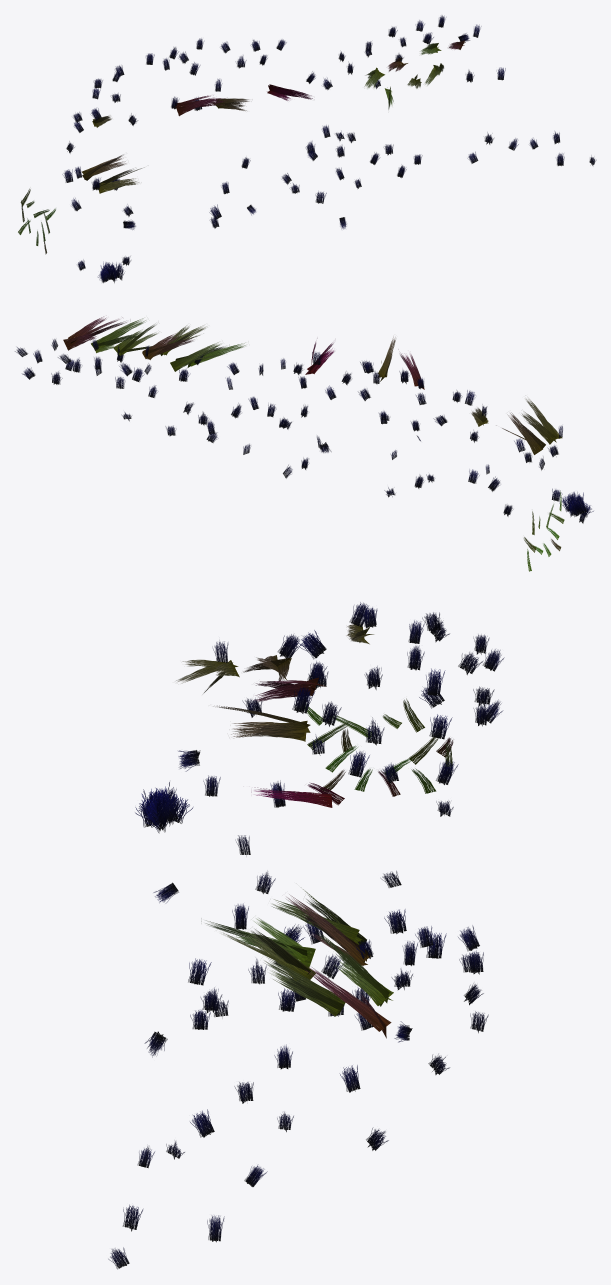
File: algae_tufts.glb
3 views of the same model, one above another, from view 1: azimuth 30°, elevation 25°; view 2: azimuth 150°, elevation 25°; view 3: azimuth 270°, elevation 25° (orthographic). The views are drawn at different scales.
Parts seen in each view (by area): view 1: Cards, LongTufts, GlassStrands, ClumpLeft; view 2: Cards, LongTufts, GlassStrands, ClumpLeft; view 3: Cards, LongTufts, GlassStrands, ClumpLeft.
Part boxes in pixels (box(x1,y1,x2,y2)): Cards: box(62, 15, 596, 270); LongTufts: box(81, 40, 465, 193); GlassStrands: box(18, 188, 55, 254); ClumpLeft: box(98, 262, 124, 282); Cards: box(15, 339, 585, 523); LongTufts: box(63, 316, 562, 454); GlassStrands: box(523, 491, 564, 571); ClumpLeft: box(559, 492, 593, 517); Cards: box(108, 602, 504, 1269); LongTufts: box(176, 624, 393, 1038); GlassStrands: box(305, 698, 453, 805); ClumpLeft: box(135, 782, 193, 833).
Bounding box in the file's own units: 120 × 34.71 × 41.45.
Materials: 4 (4 with a texture image).
